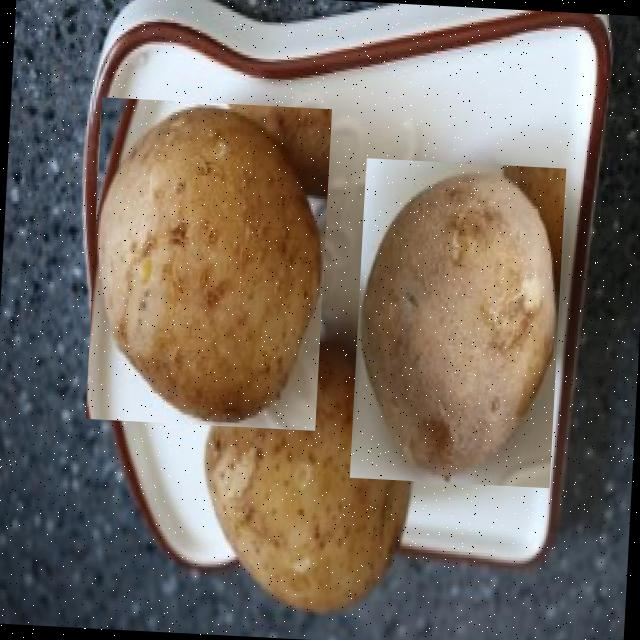Potato: (85, 97, 332, 431), (350, 158, 566, 488), (194, 335, 424, 624)
